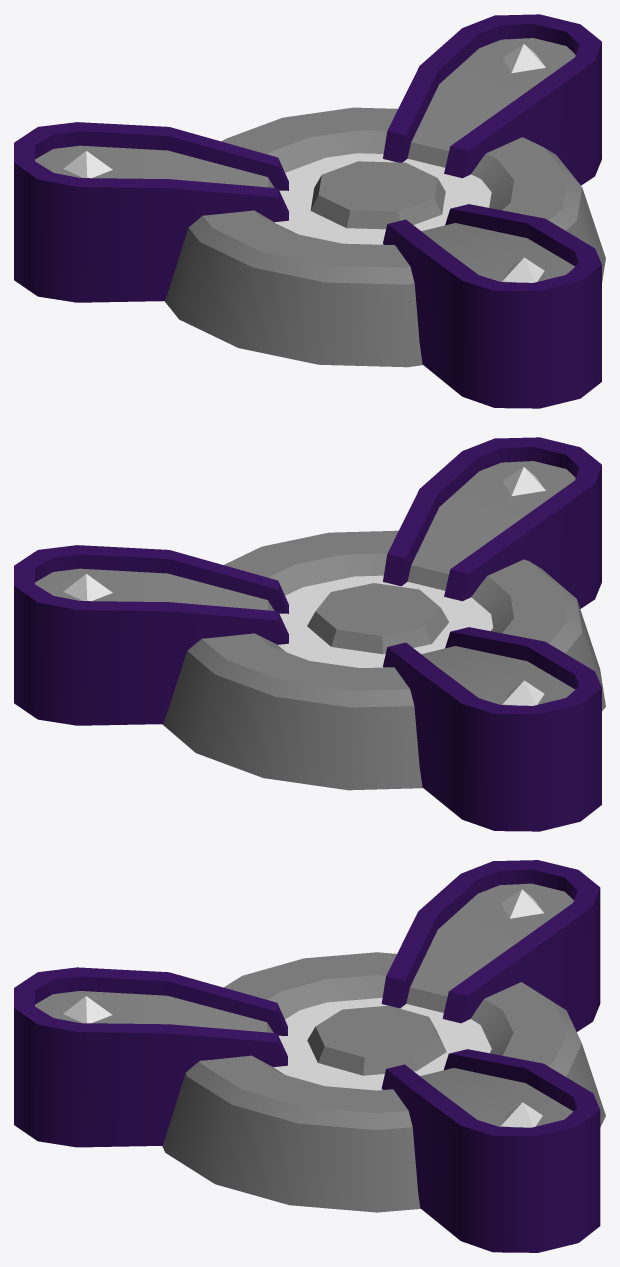
Rendered from Portal.fbx.
3 views of the same model, one above another, from view 1: azimuth 30°, elevation 25°; view 2: azimuth 150°, elevation 25°; view 3: azimuth 270°, elevation 25° (orthographic).
Visible parts, largest first — view 1: Portal; view 2: Portal; view 3: Portal.
Boxes of the visible parts, x1,y1,x2,y2 form: Portal: (14,14,605,408); Portal: (14,437,605,831); Portal: (14,860,605,1252).
Size of the model in its own units: 99.53 by 20.22 by 90.37.
